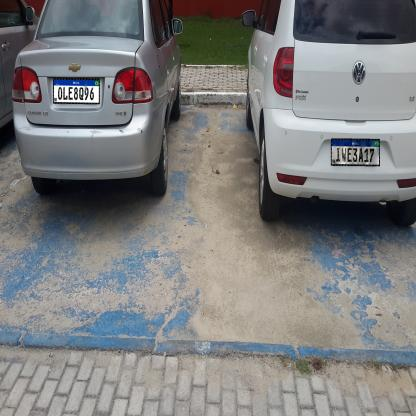PlacaM: (331, 138, 380, 166), (53, 78, 100, 104)
